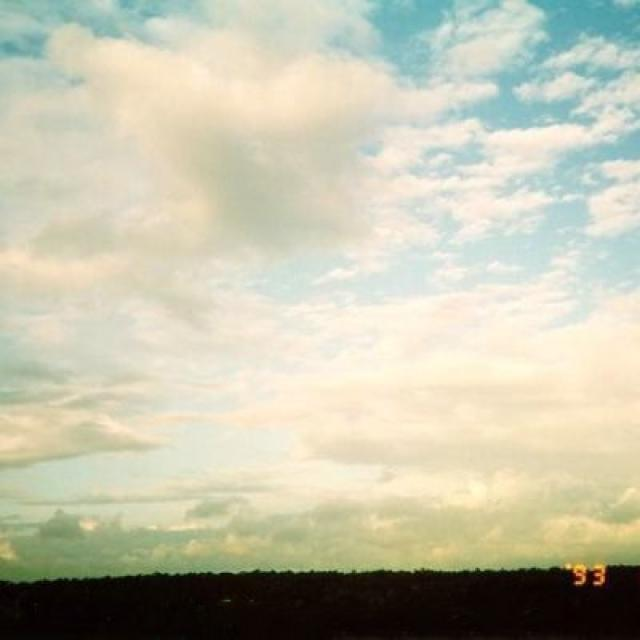Sc: (11, 35, 640, 517)
